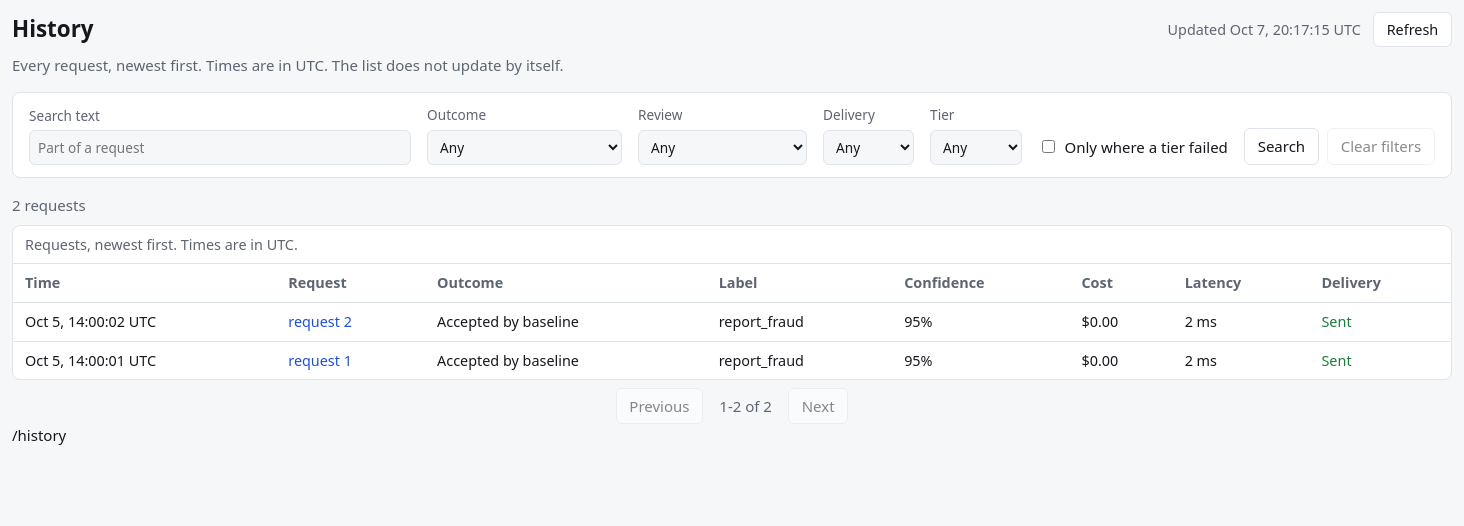
Test case: problems › keeps the list and warns when a refresh fails
Expected: the text "2 requests" is shown, top-left (12, 195), bottom-right (86, 215)
Click the button "Refresh": (1412, 29) top-left (1373, 12), bottom-right (1452, 47)
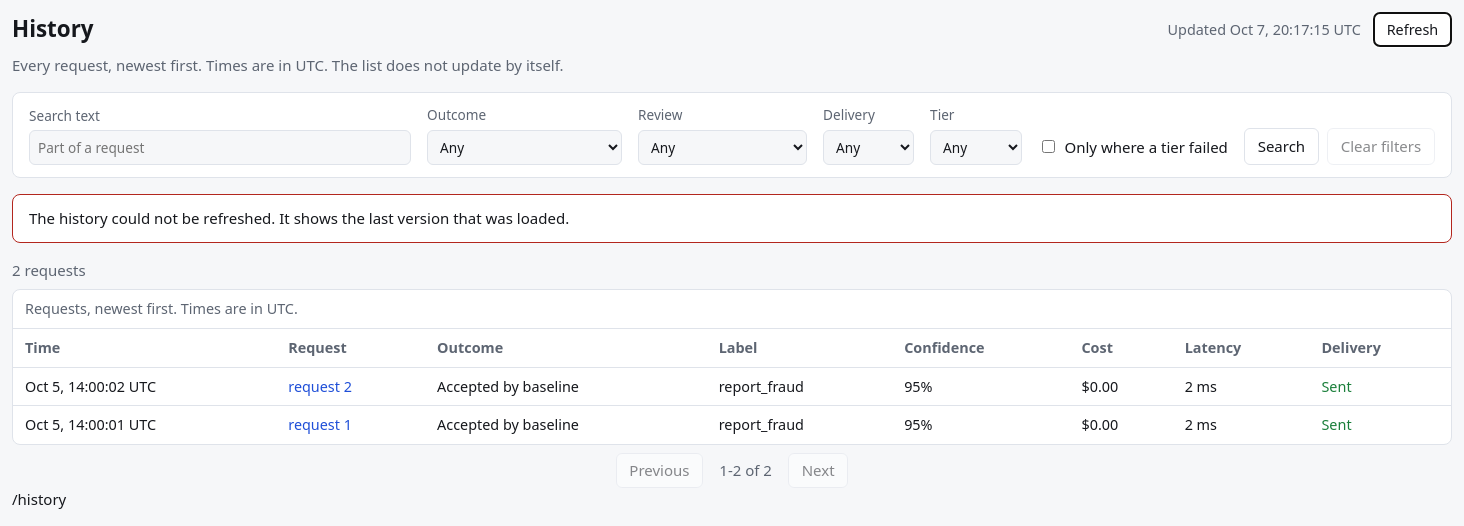
Expected: the text "2 requests" is shown, top-left (12, 260), bottom-right (86, 280)
Result: the message "The history could not be refreshed. It shows the last version that was loaded." is shown at top-left (12, 194), bottom-right (1452, 243)
